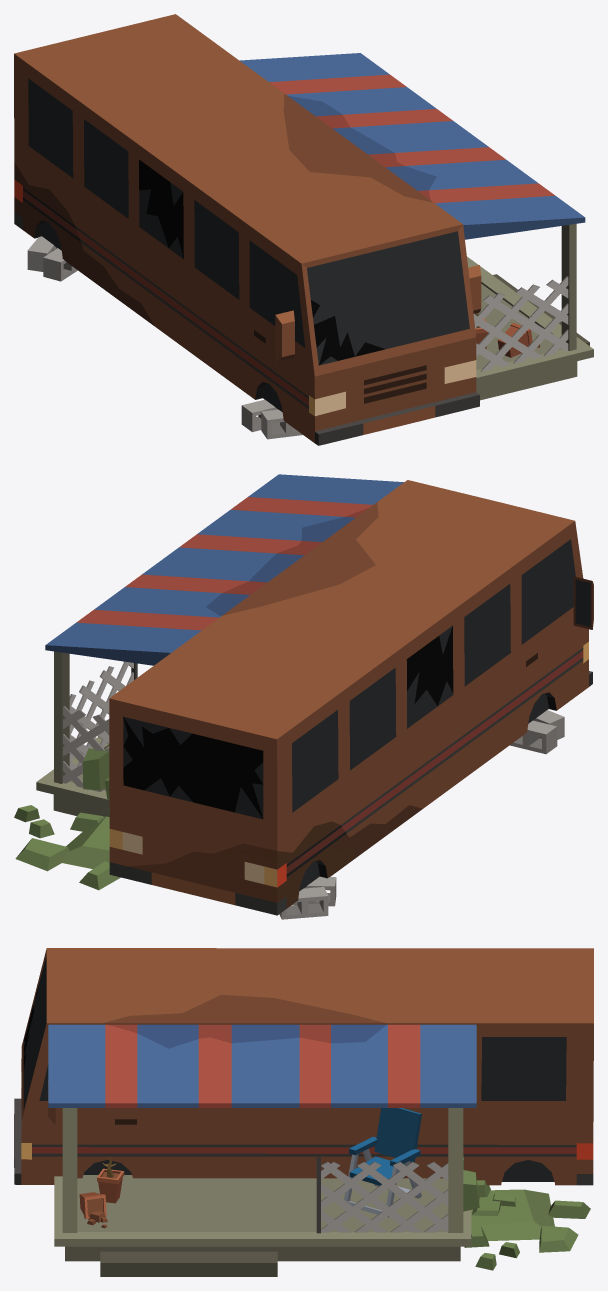
The model's file is SA_Bld_TrailerRV_Damaged_02.gltf.
3 renders of one model, top to bottom at view 1: azimuth 30°, elevation 25°; view 2: azimuth 150°, elevation 25°; view 3: azimuth 270°, elevation 25°, orthographic. The views are drawn at different scales.
Parts seen in each view (by area): view 1: SA_Bld_TrailerRV_Damaged_02; view 2: SA_Bld_TrailerRV_Damaged_02; view 3: SA_Bld_TrailerRV_Damaged_02.
Boxes of the visible parts, bbox=[...] form: SA_Bld_TrailerRV_Damaged_02: bbox=[14, 14, 593, 445]; SA_Bld_TrailerRV_Damaged_02: bbox=[14, 474, 593, 919]; SA_Bld_TrailerRV_Damaged_02: bbox=[14, 948, 593, 1276].
Size of the model in its own units: 7.22 by 3.9 by 11.27.
1 material, 1 textured.
